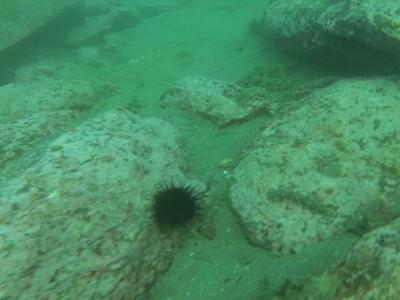urchin: (145, 180, 204, 225)
